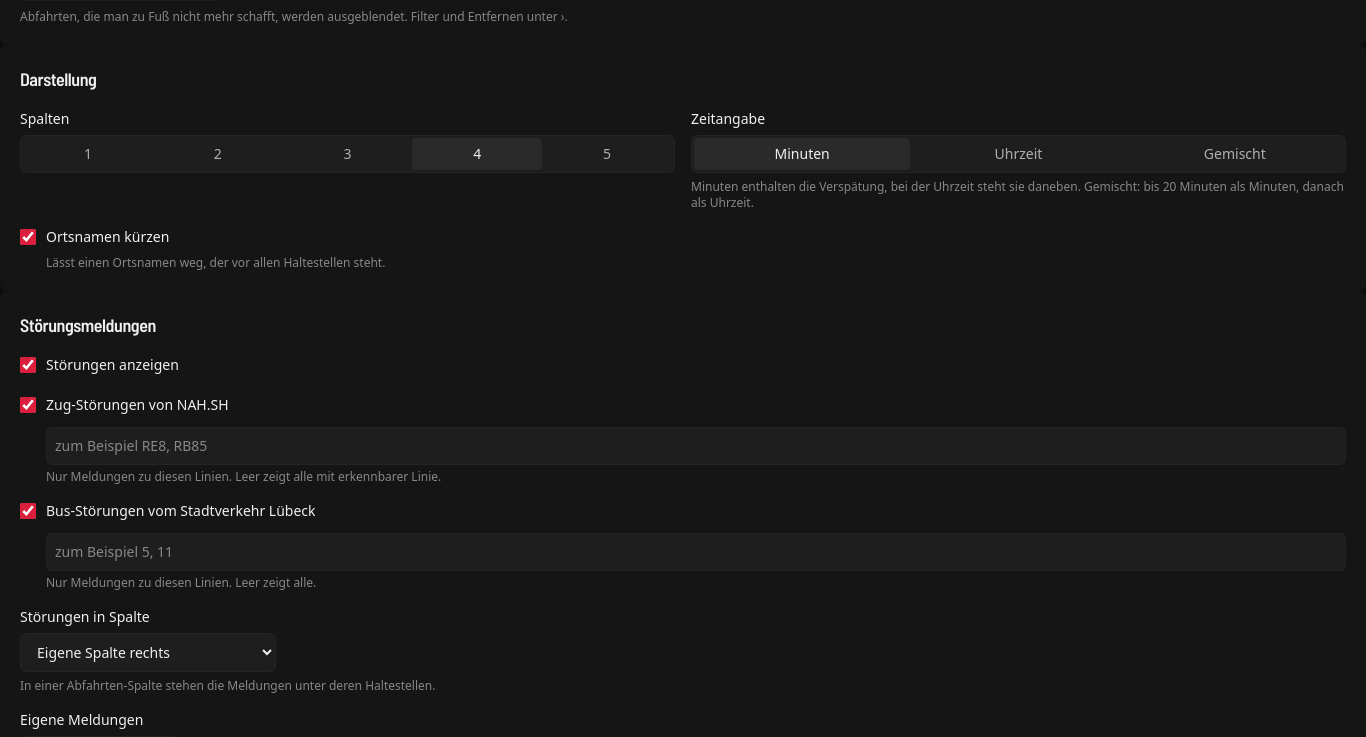
Test: DeparturesEditor Darstellung › schreibt Störungen anzeigen und blendet bei Aus die Quellen aus
(page scrolled)
Click the checkbox labelled "Störungen anzeigen" at x=28, y=365, box [20,357,36,373]
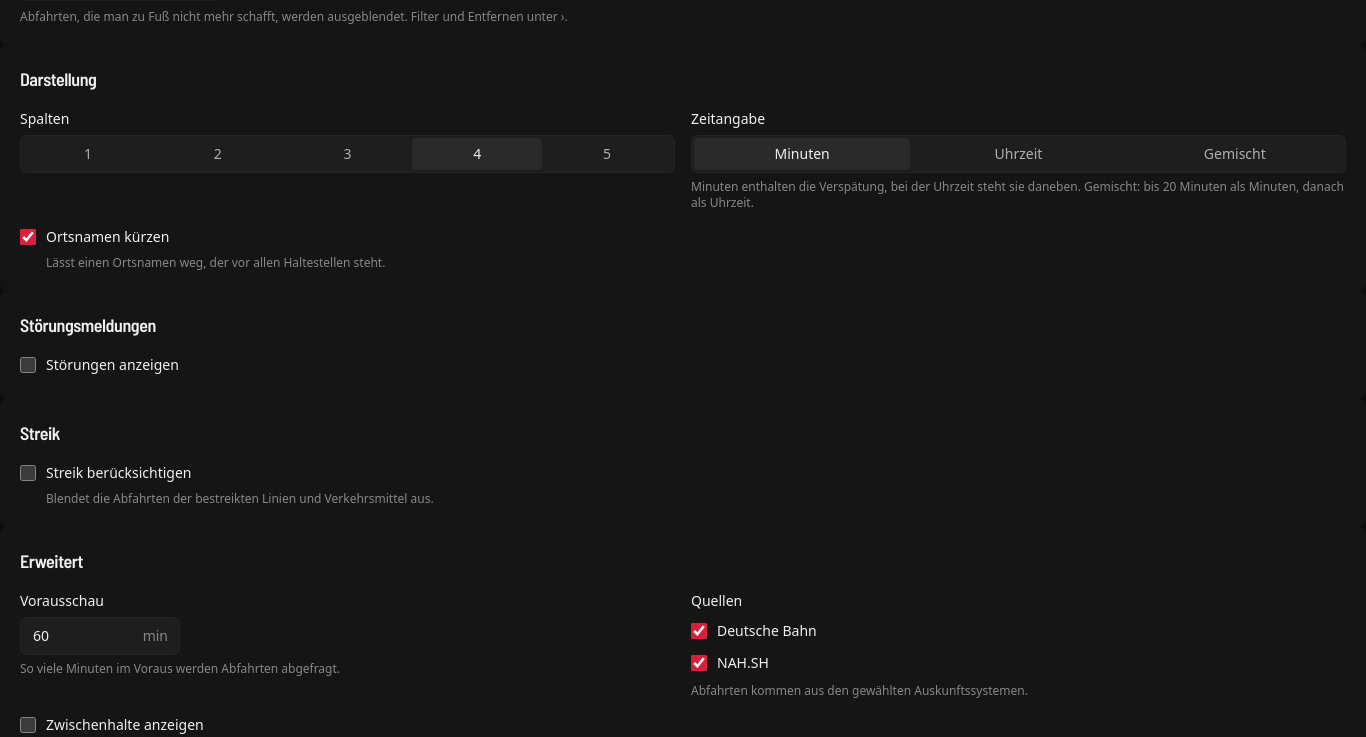
Expected: the text "Zug-Störungen von NAH.SH" is gone
